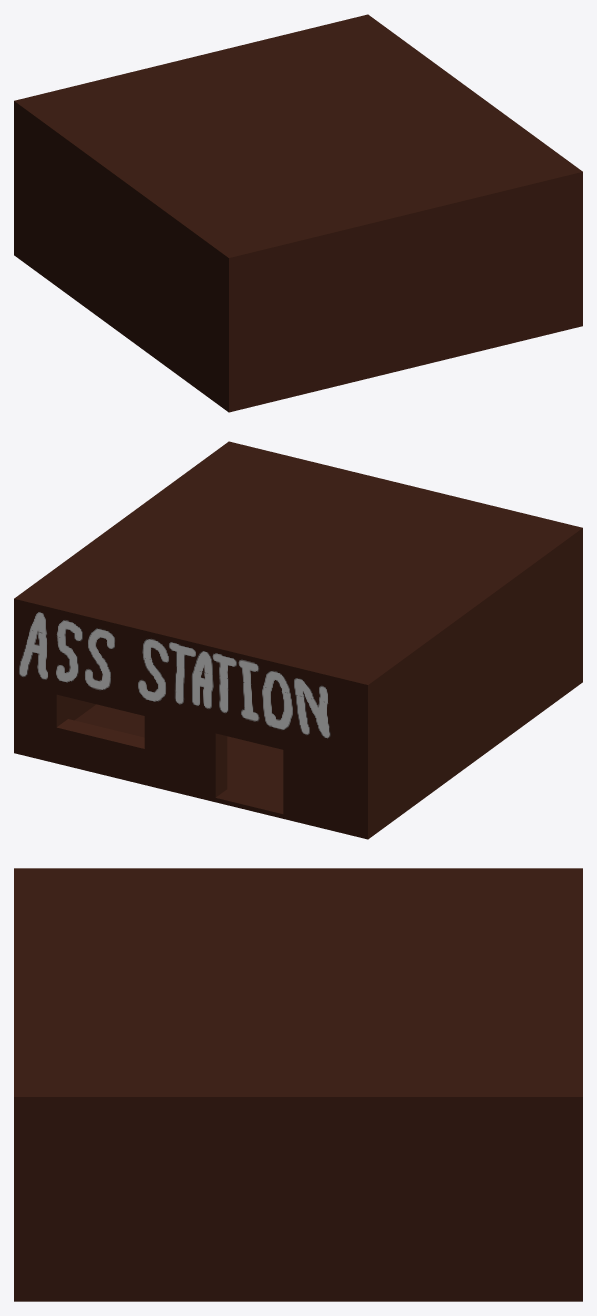
File: GasStationPlaceholder.glb
3 renders of one model, top to bottom at view 1: azimuth 30°, elevation 25°; view 2: azimuth 150°, elevation 25°; view 3: azimuth 270°, elevation 25°, orthographic. The views are drawn at different scales.
Visible parts, largest first — view 1: Ass Station-col; view 2: Ass Station-col; view 3: Ass Station-col.
Boxes of the visible parts, left/top/right/bottom form: Ass Station-col: left=14, top=14, right=582, bottom=412; Ass Station-col: left=14, top=441, right=582, bottom=839; Ass Station-col: left=14, top=868, right=582, bottom=1301.
Size of the model in its own units: 18.41 by 7.67 by 19.35.
Materials: 1 (1 with a texture image).
